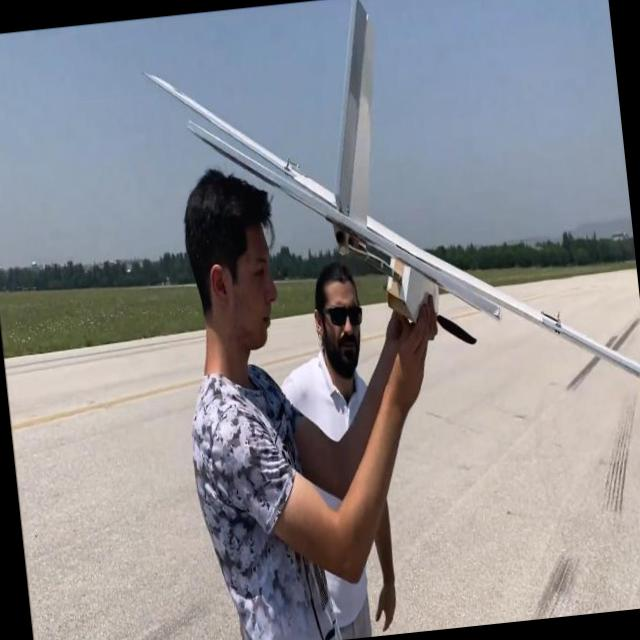UAV: (133, 0, 640, 428)
